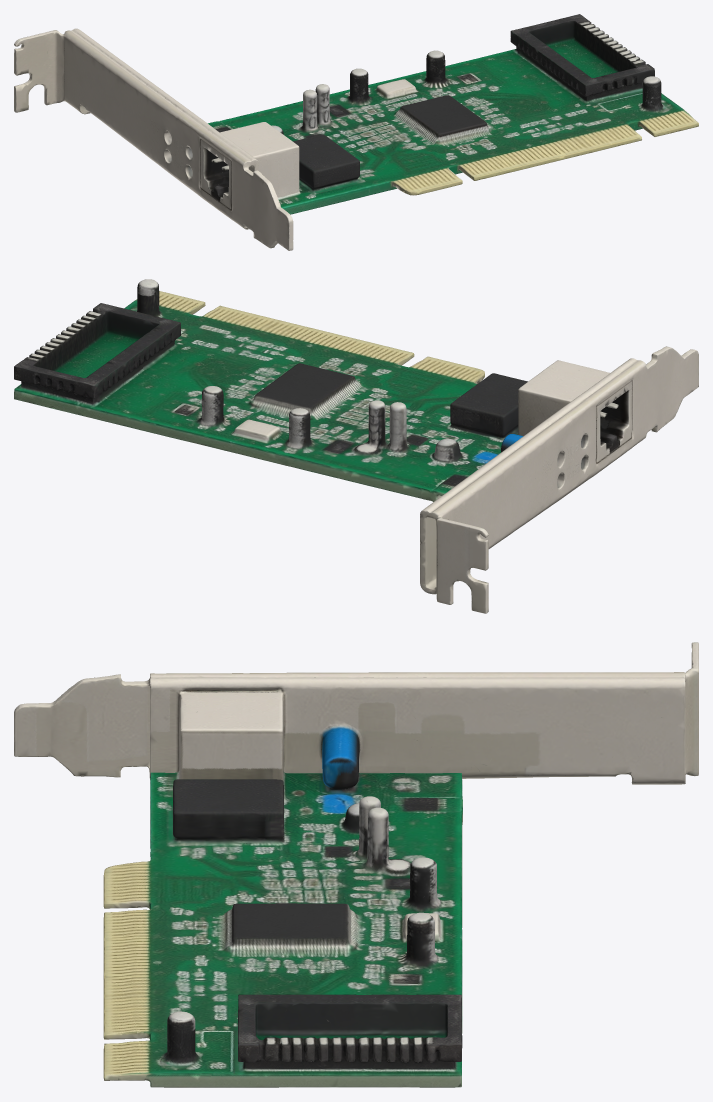
File: lan-card.glb
The picture shows the model from 3 angles, top to bottom: view 1: azimuth 30°, elevation 25°; view 2: azimuth 150°, elevation 25°; view 3: azimuth 270°, elevation 25°; orthographic projection. The views are drawn at different scales.
Bounding box in the file's own units: 1.9 × 0.2715 × 1.55.
Materials: 1 (1 with a texture image).
